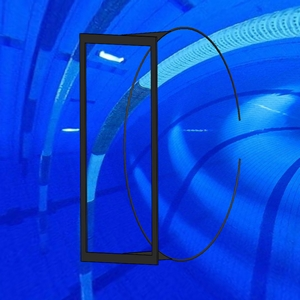circle: (78, 25, 242, 266)
